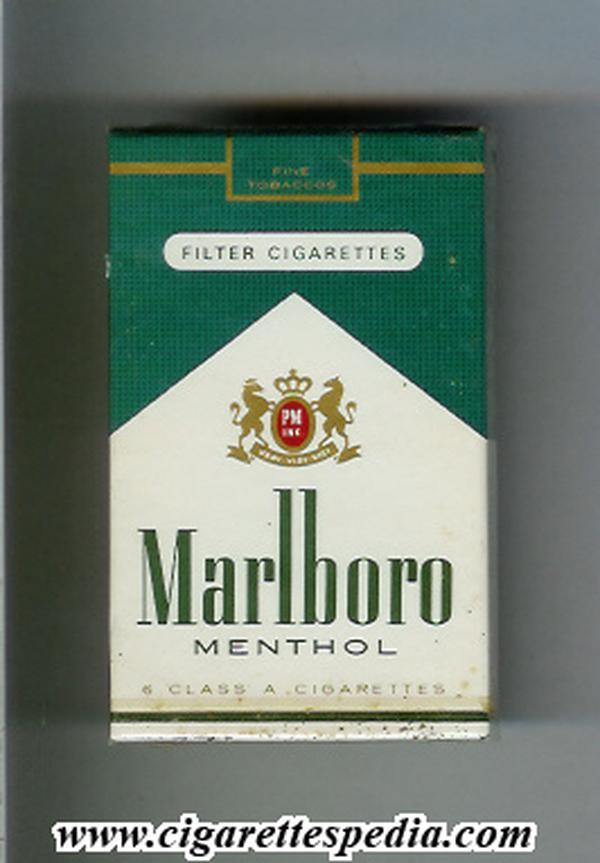marlboro_mentol: (117, 131, 489, 738)
